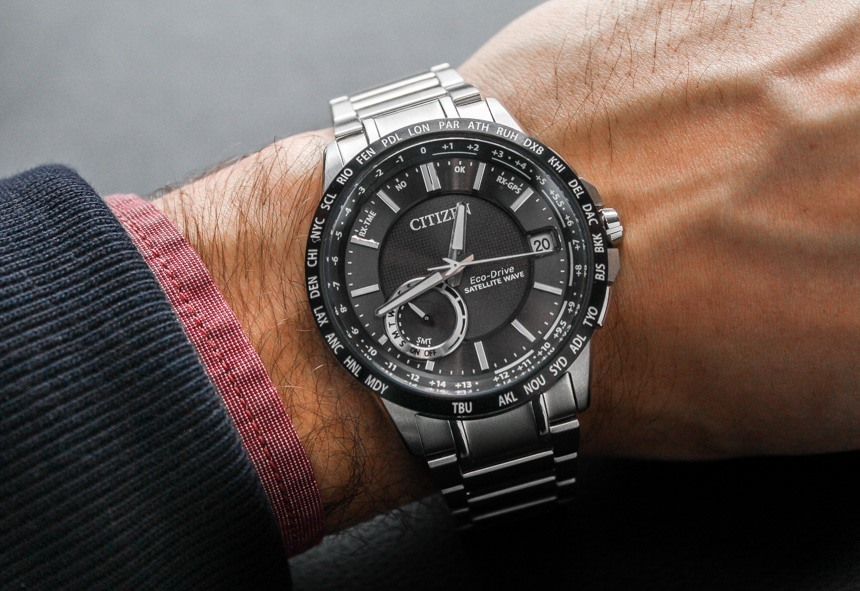clock: (307, 118, 612, 419)
